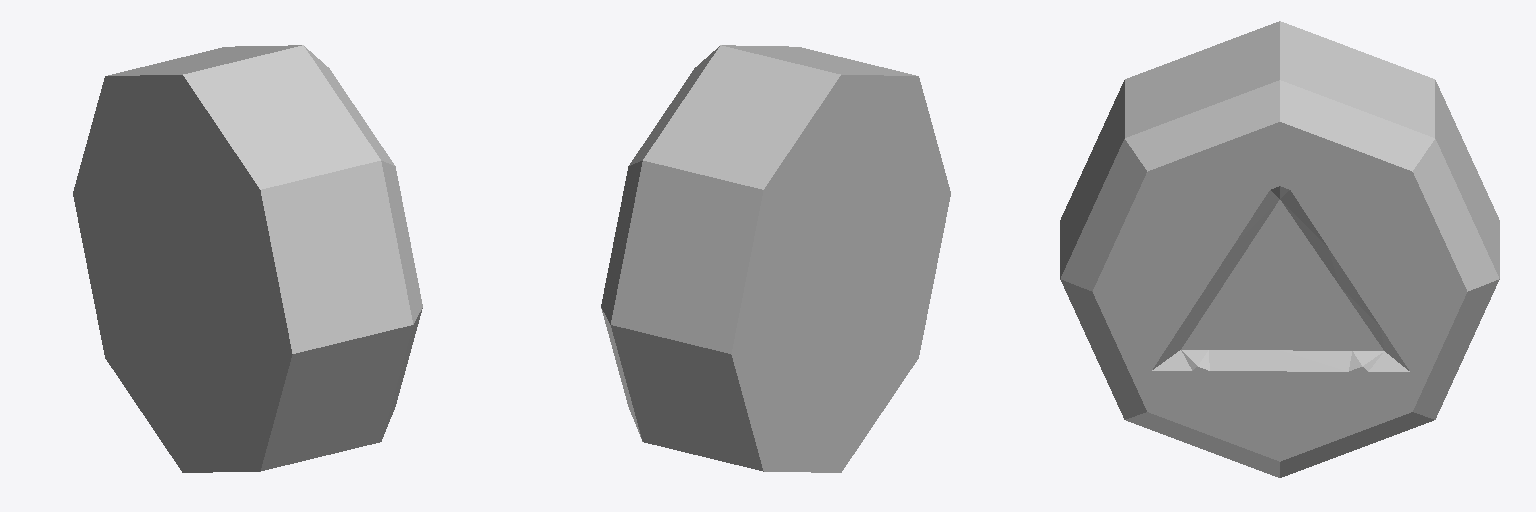
Rendered from Upgrade skill.obj.
3 views of the same model, side by side, from view 1: azimuth 30°, elevation 25°; view 2: azimuth 150°, elevation 25°; view 3: azimuth 270°, elevation 25° (orthographic).
Visible parts, largest first — view 1: Circle.011_Circle.012; view 2: Circle.011_Circle.012; view 3: Circle.011_Circle.012.
Part boxes in pixels (left/top/right/bottom): Circle.011_Circle.012: left=73, top=45, right=422, bottom=472; Circle.011_Circle.012: left=601, top=45, right=950, bottom=472; Circle.011_Circle.012: left=1060, top=21, right=1499, bottom=477.
Size of the model in its own units: 0.2285 by 0.5933 by 0.5933.